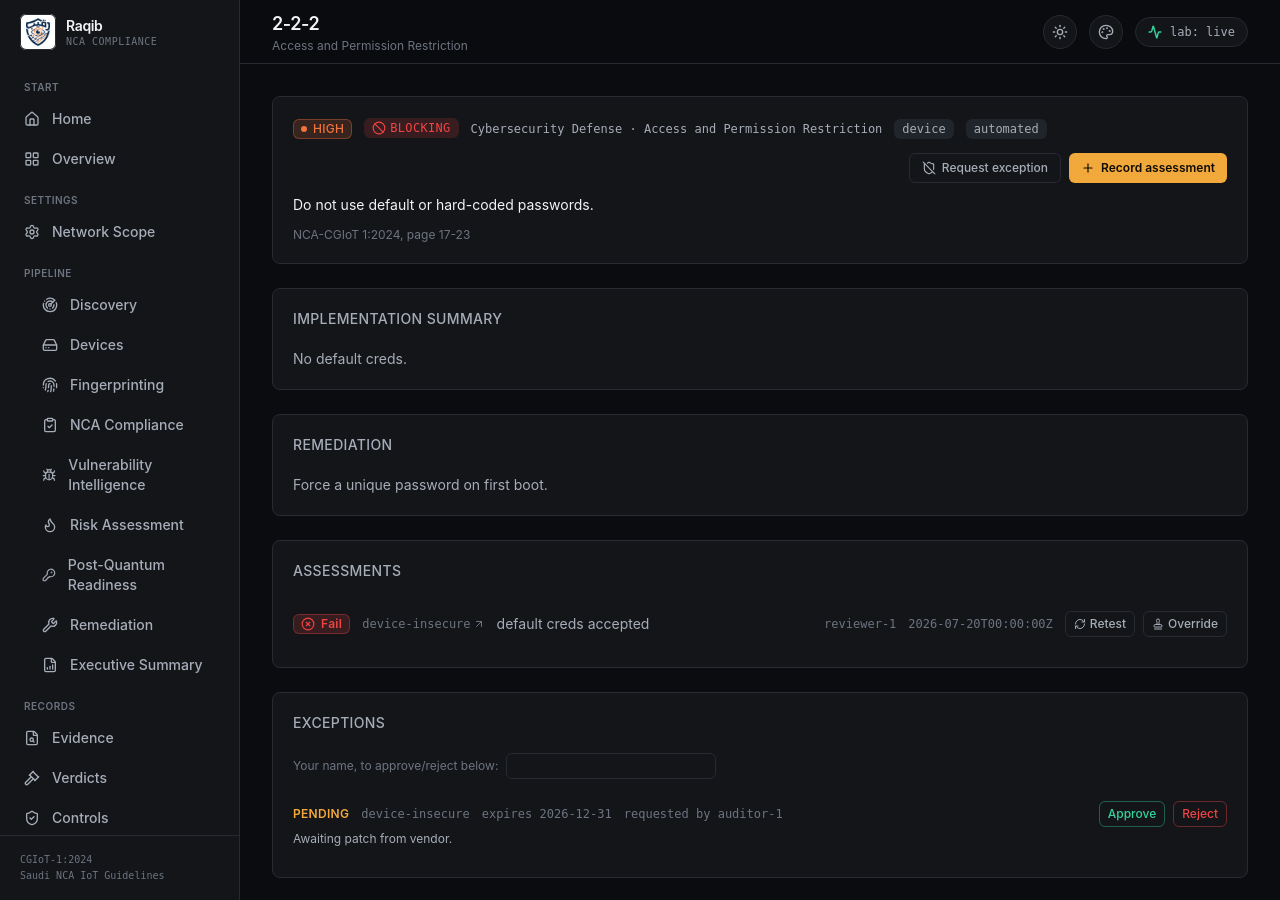
Test: NCAControlDetailPage › requires a reviewer name before approving or rejecting an exception
The width and height of the screenshot is (1280, 900).
Expected: the text "Awaiting patch from vendor." is shown, [293,831,452,846]
Click the button "Approve". click: (1132, 814)
box: [1099,801,1165,827]
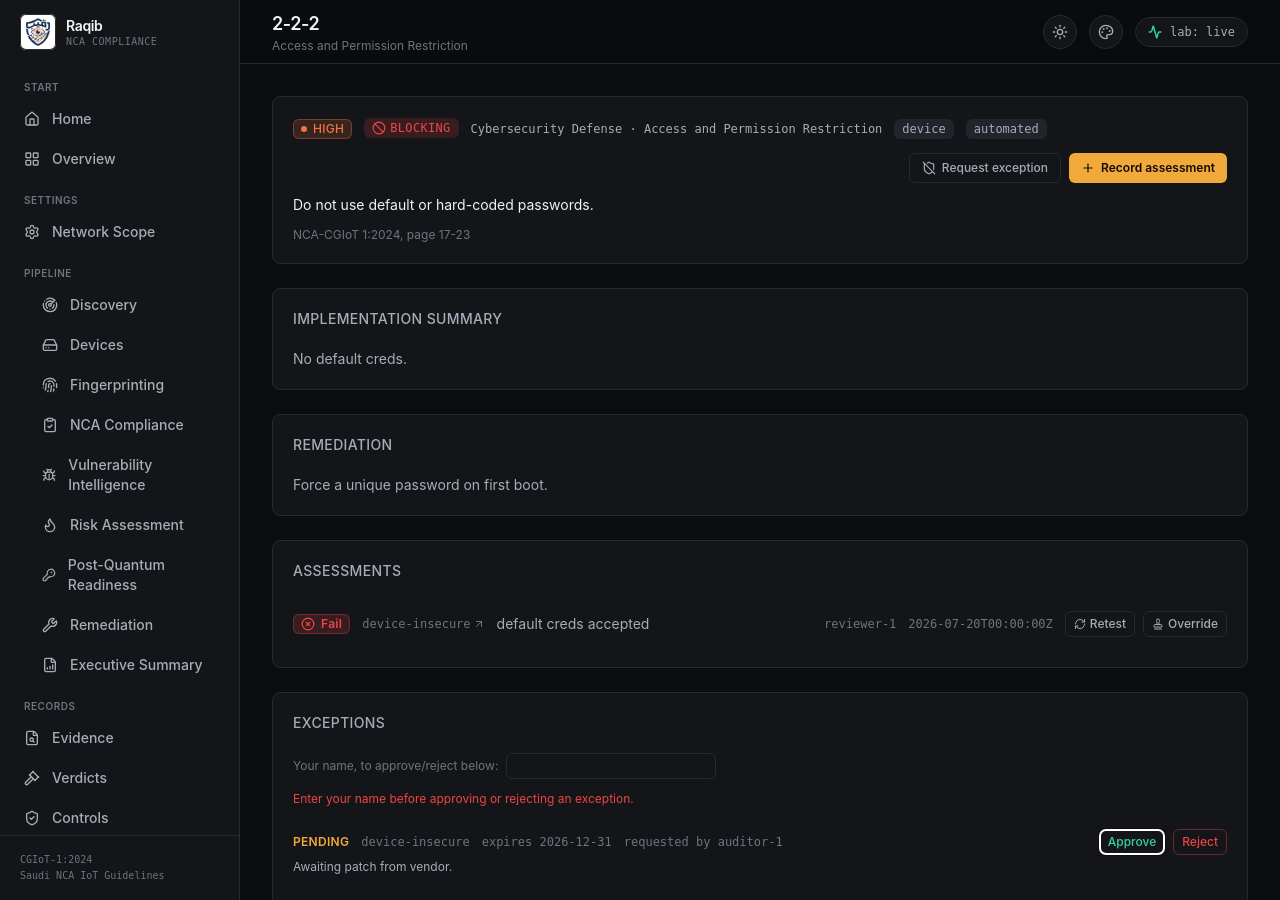
Expected: the text "Enter your name before approving or rejecting an exception." is shown, [293,791,634,806]
